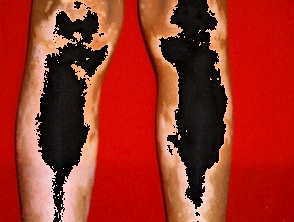vitiligo: (0, 0, 128, 222), (148, 0, 244, 222)
